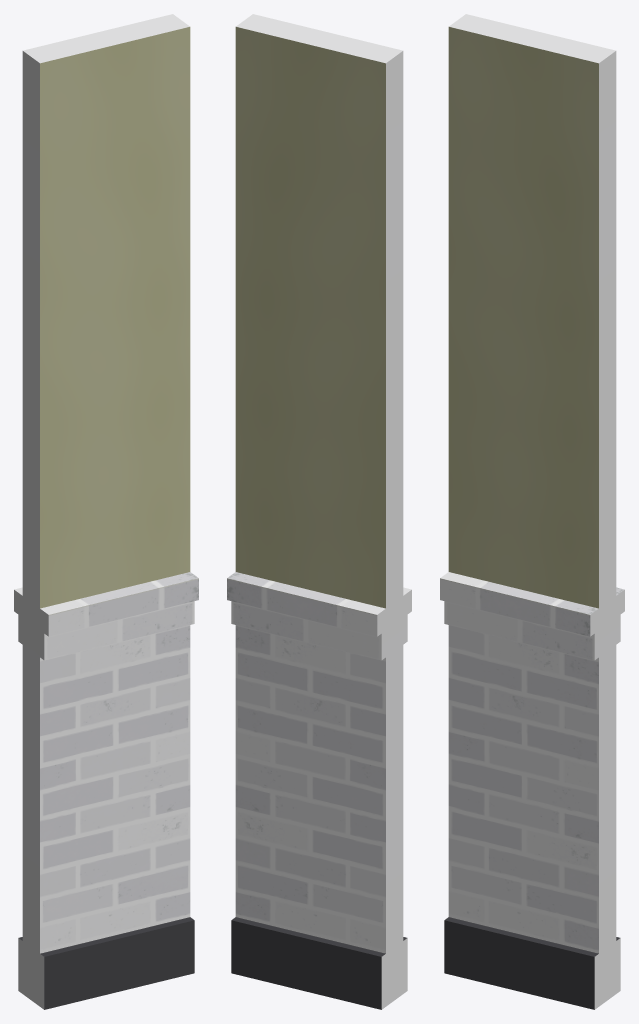
The model's file is SM_Buildings_Wall_HALFx3_01_TileBack.fbx.
3 views of the same model, side by side, from view 1: azimuth 30°, elevation 25°; view 2: azimuth 150°, elevation 25°; view 3: azimuth 330°, elevation 25° (orthographic).
Visible parts, largest first — view 1: SM_Buildings_Wall_HALFx3_01_TileBack; view 2: SM_Buildings_Wall_HALFx3_01_TileBack; view 3: SM_Buildings_Wall_HALFx3_01_TileBack.
Boxes of the visible parts, x1=… form: SM_Buildings_Wall_HALFx3_01_TileBack: x1=14, y1=14, x2=198, y2=1009; SM_Buildings_Wall_HALFx3_01_TileBack: x1=227, y1=14, x2=411, y2=1009; SM_Buildings_Wall_HALFx3_01_TileBack: x1=440, y1=14, x2=624, y2=1009.
Bounding box in the file's own units: 50 × 300 × 20.
Materials: 1 (1 with a texture image).
